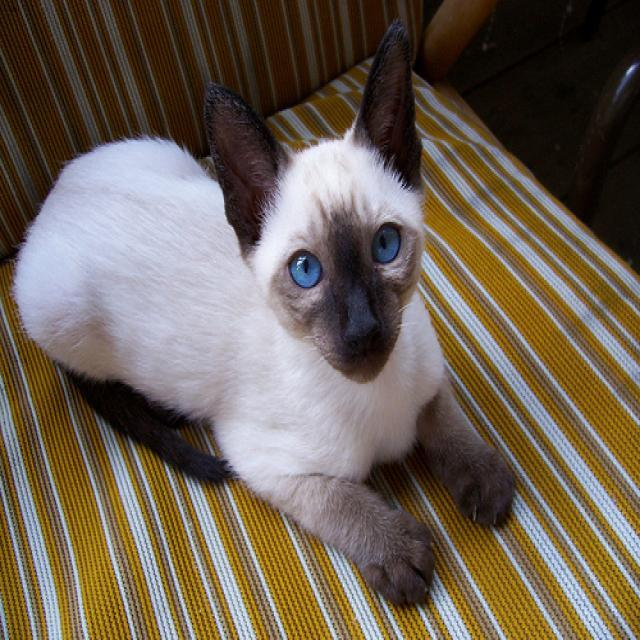Siamese: (202, 15, 428, 386)
